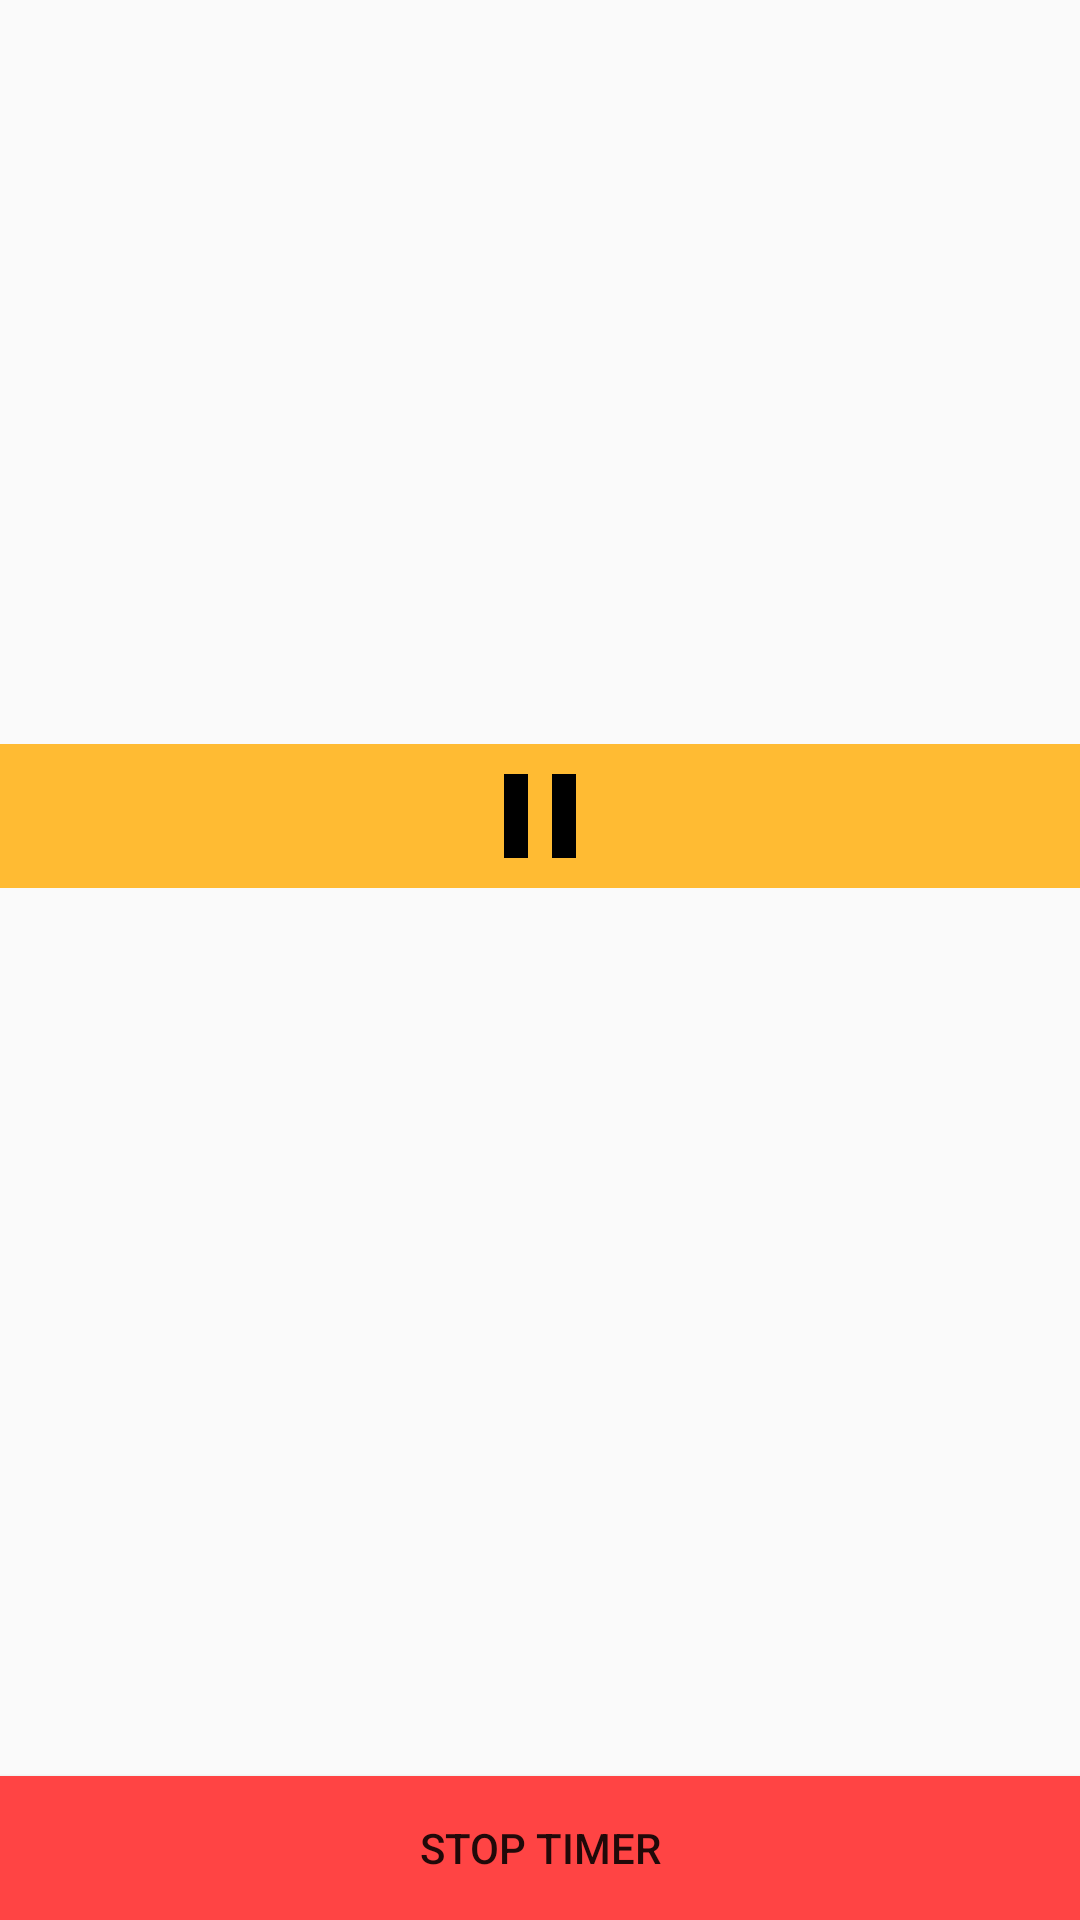

Screen size 1080w x 1920h. Icon name, then its box in pixels as bbox(x1, y1, x2, y2):
pause: bbox(504, 774, 576, 858)
